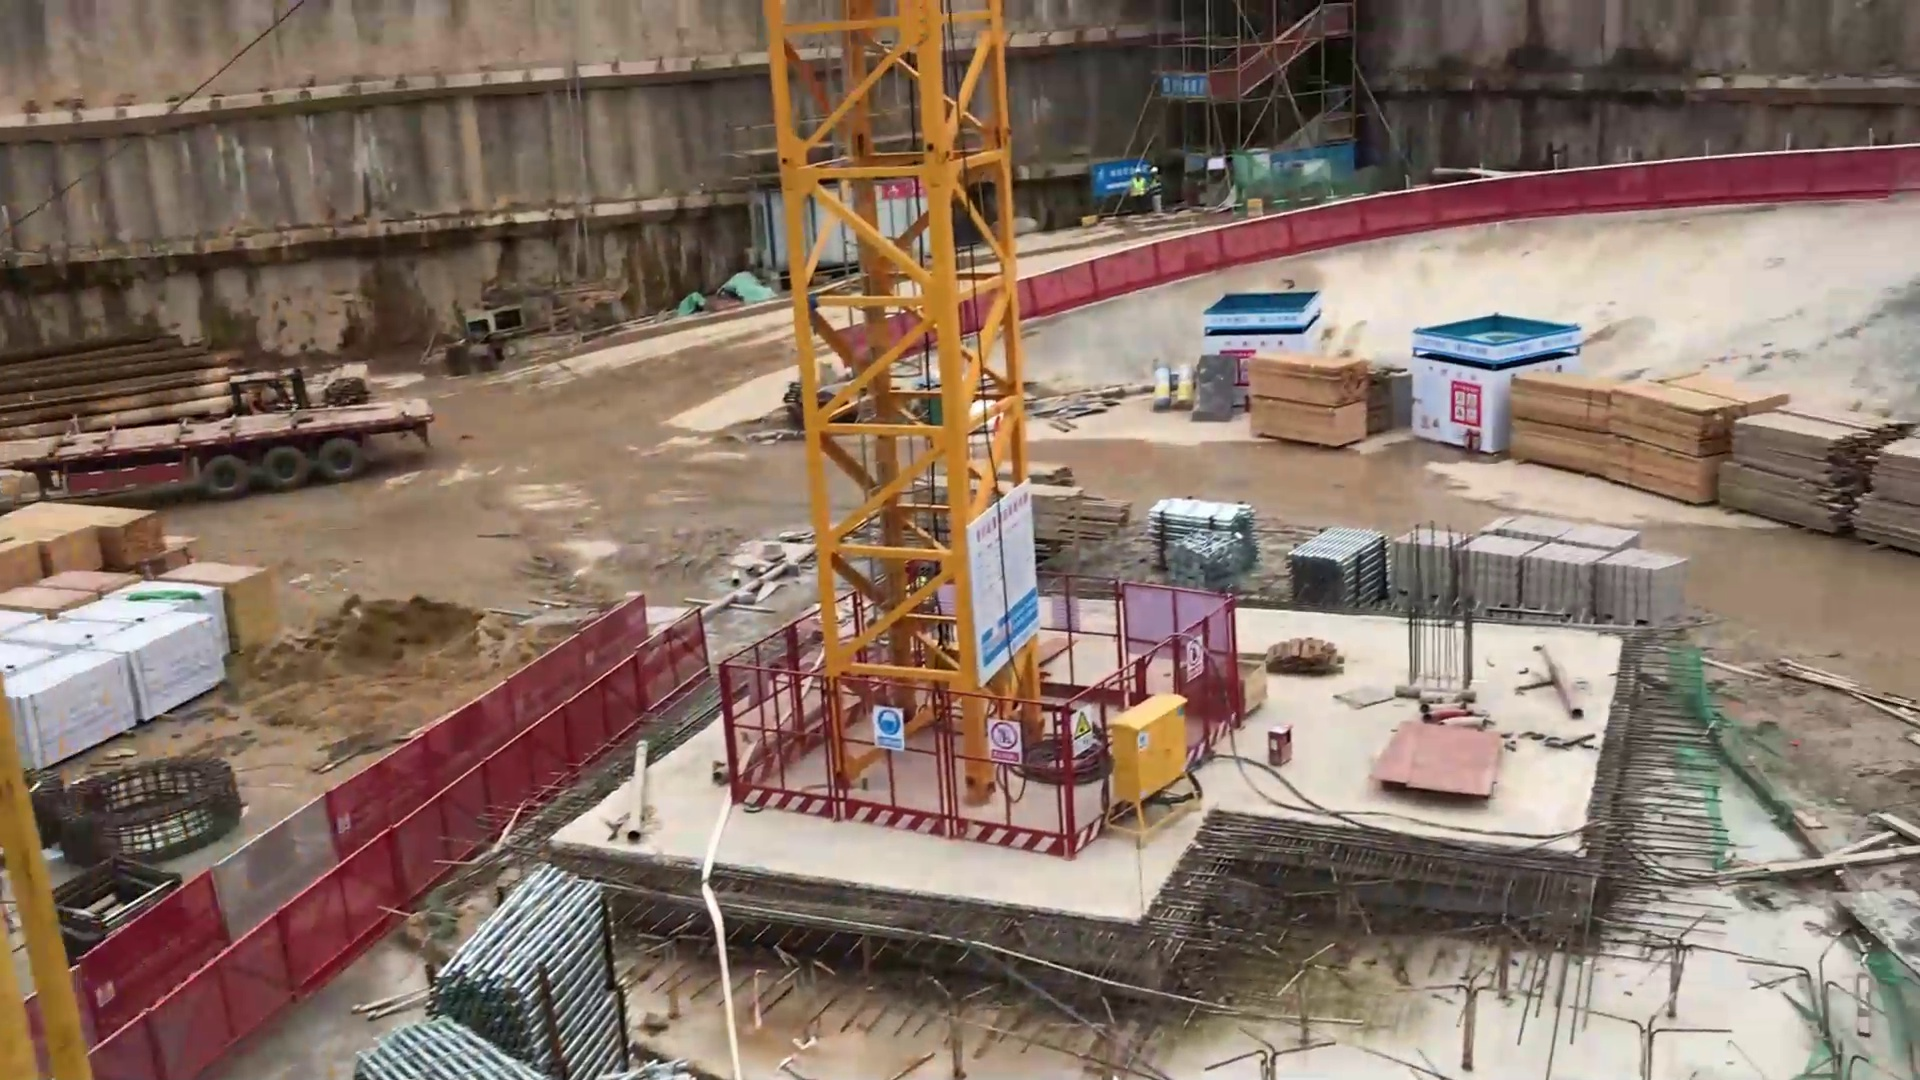board: (1366, 707, 1512, 807)
brick: (1388, 523, 1476, 619), (1522, 538, 1608, 632), (1594, 547, 1679, 642), (1457, 530, 1540, 625), (1494, 511, 1649, 562)
ebox: (1112, 693, 1198, 844)
fence: (468, 598, 706, 783), (1641, 140, 1910, 199)
person: (1128, 165, 1150, 226), (1146, 163, 1166, 218)
scaffold: (381, 874, 626, 1080), (1152, 494, 1273, 590), (1288, 526, 1392, 604)
slogan: (974, 478, 1058, 685), (978, 712, 1026, 768), (1070, 702, 1104, 772), (1452, 375, 1491, 434), (870, 705, 917, 756), (1160, 63, 1218, 102), (1184, 634, 1208, 687)
wood: (1530, 357, 1743, 502), (1734, 383, 1904, 545), (7, 501, 173, 590), (1252, 345, 1371, 452), (1033, 461, 1134, 553)
